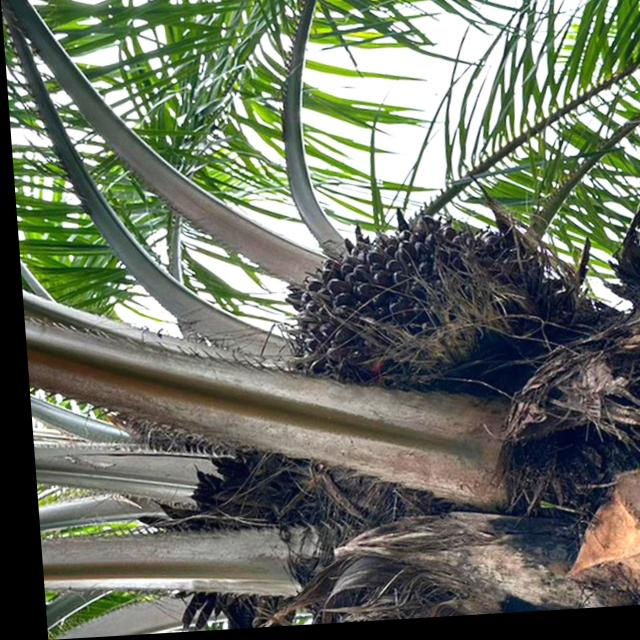ripe: (272, 225, 528, 406)
